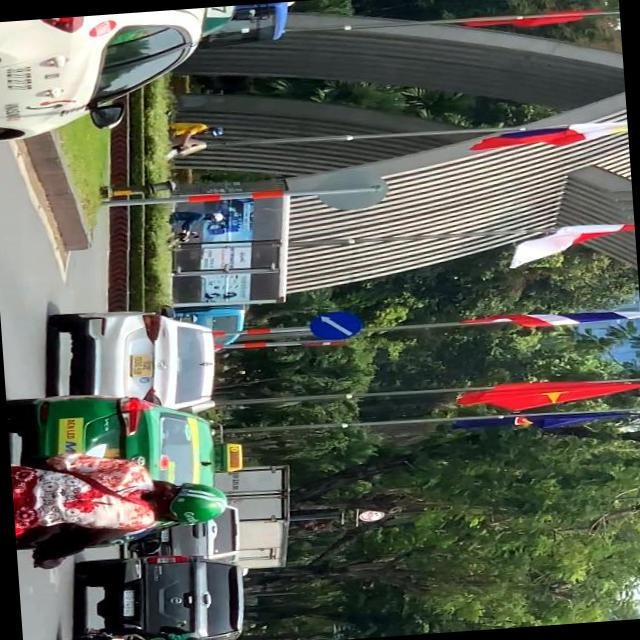R-302b: (310, 307, 358, 343)
